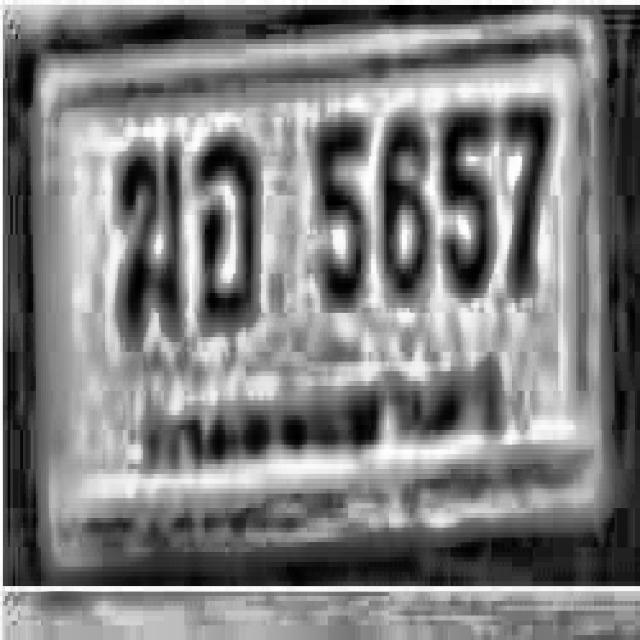license-plate: (23, 32, 628, 582)
